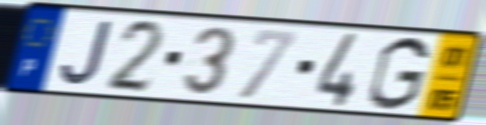2: (103, 17, 170, 95)
3: (179, 24, 237, 97)
4: (314, 29, 360, 110)
7: (241, 27, 301, 102)
G: (365, 34, 433, 113)
J: (57, 17, 115, 88)
